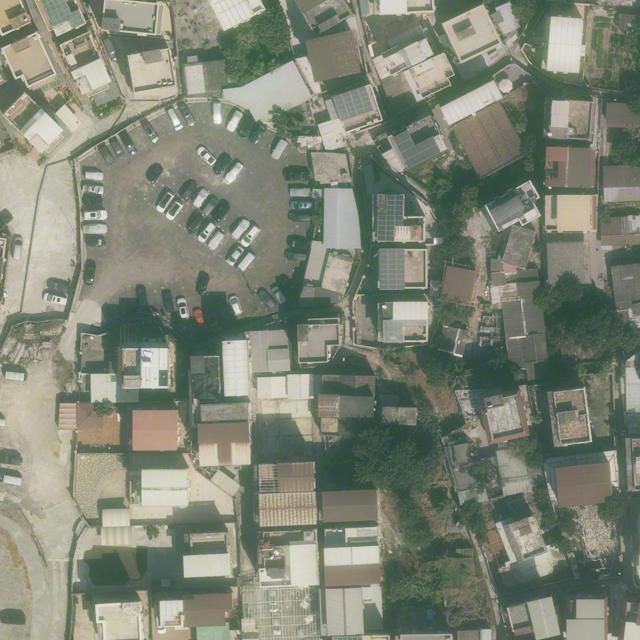panel: (332, 86, 374, 122), (400, 136, 441, 169), (378, 247, 406, 291), (393, 130, 416, 153), (387, 193, 403, 226), (376, 215, 394, 242)
